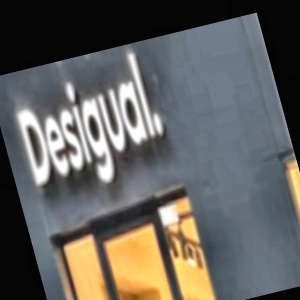desigual: (137, 50, 161, 79)
